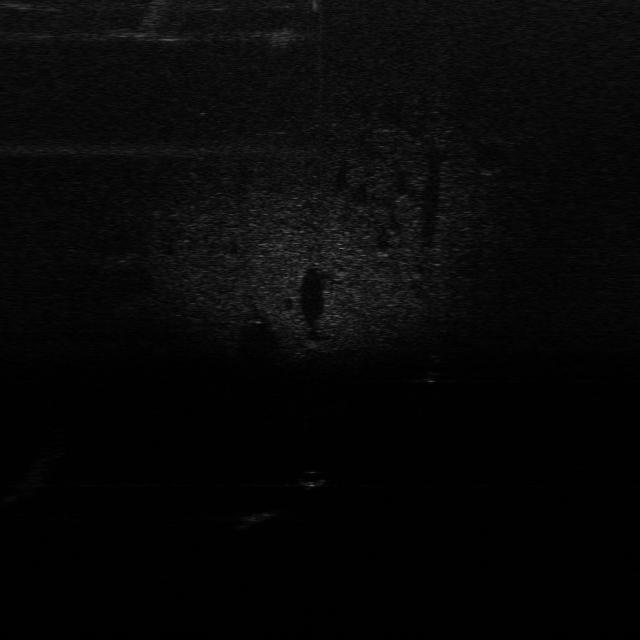ball: (298, 466, 328, 488)
square cage: (227, 505, 282, 526)
tyre: (422, 353, 446, 385)
